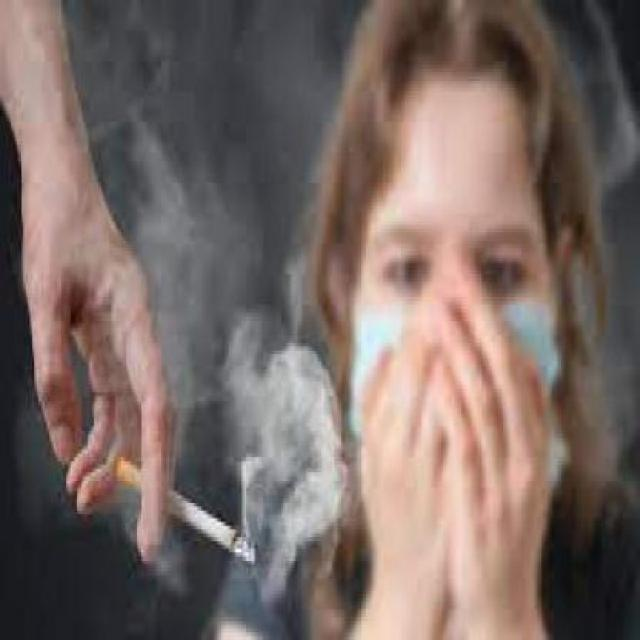smoke: (116, 446, 262, 568)
